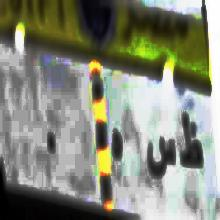0: (42, 122, 61, 161)
Thaa: (177, 110, 204, 177)
haa: (109, 118, 126, 175)
seen: (146, 121, 176, 193)
